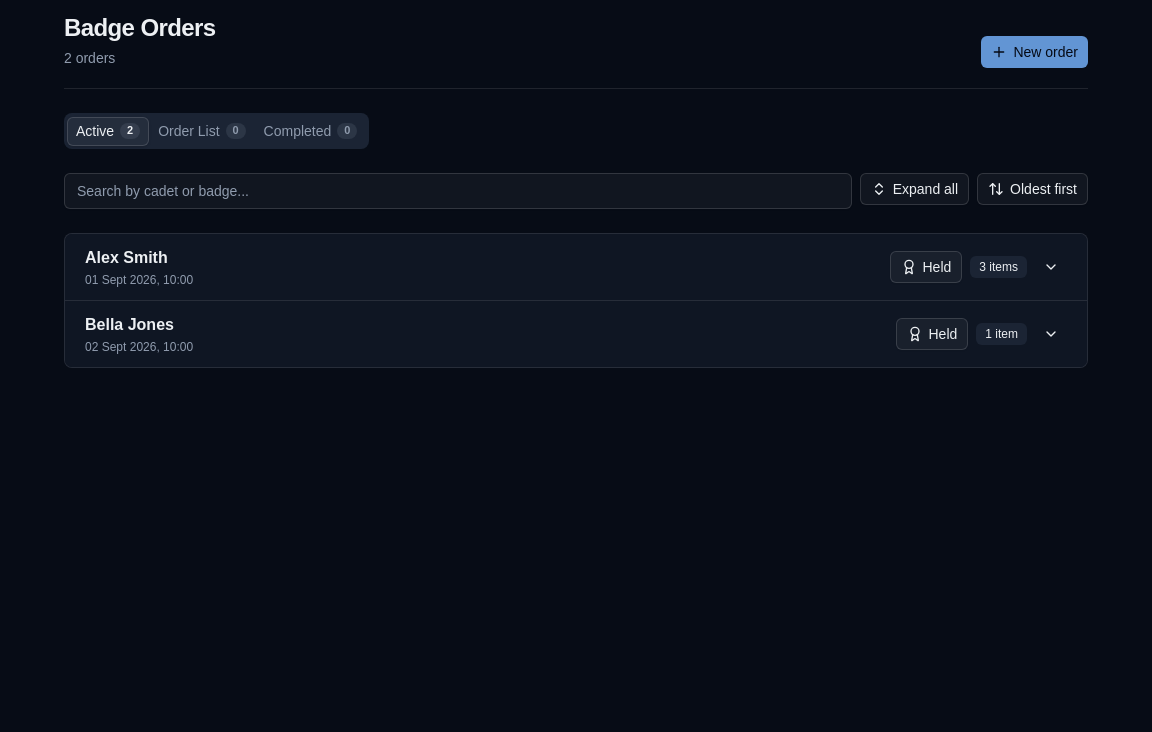
Test: search › searching a badge shows only that badge in each order
The image size is (1152, 732).
Check: the link "Alex Smith" is shown, box left=85, top=246, right=168, bottom=270
Type "first aid" into the field labelled "Search by cadet or badge" at (458, 191), box left=64, top=173, right=852, bottom=209
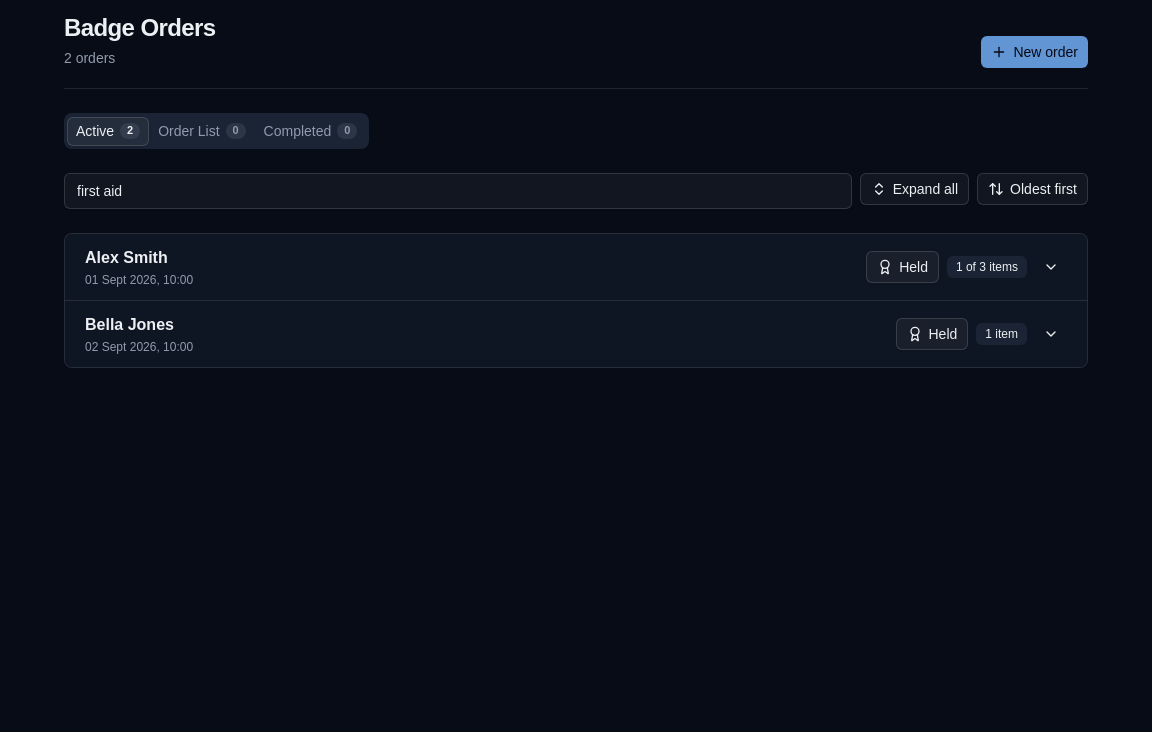
Check: the link "Bella Jones" is shown, box left=85, top=313, right=174, bottom=337
Check: the text "1 of 3 items" is shown, box left=947, top=256, right=1027, bottom=278
Click the button named "Expand order for Alex Smith" at (1051, 267), box left=1035, top=251, right=1067, bottom=283
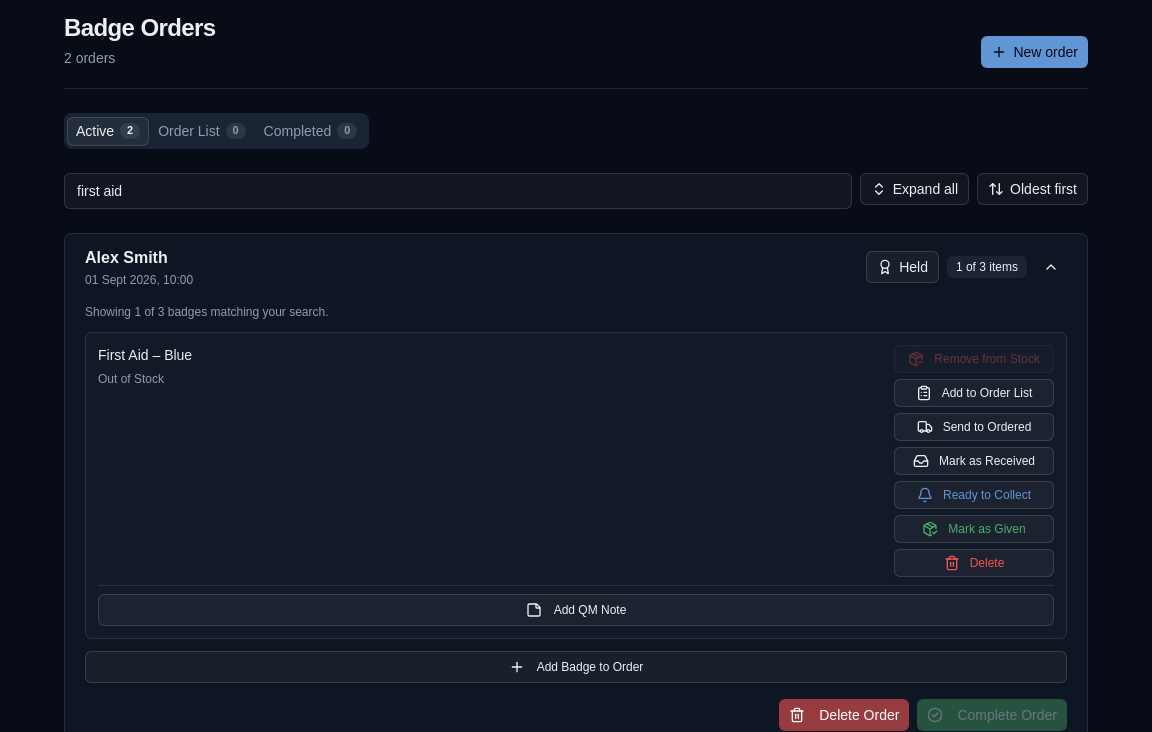
Check: the text "First Aid – Blue" is shown, box left=98, top=347, right=192, bottom=363
Check: the text "Showing 1 of 3 badges matching your search." is shown, box left=85, top=305, right=328, bottom=319
